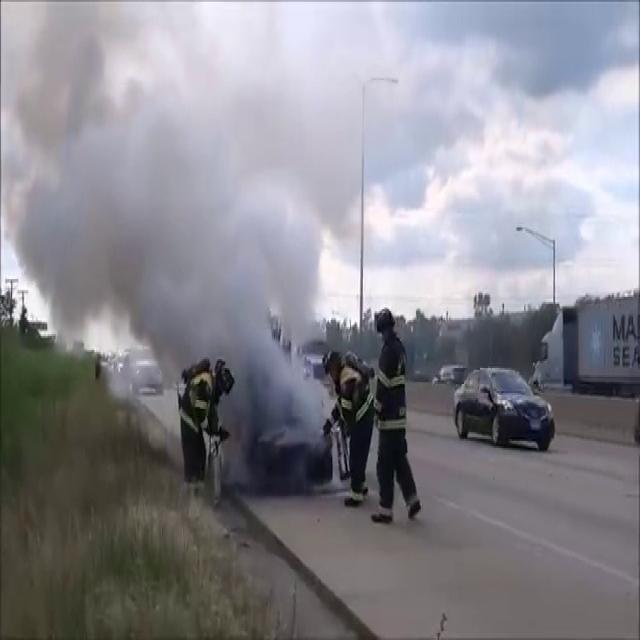Smoke: (1, 1, 336, 493)
